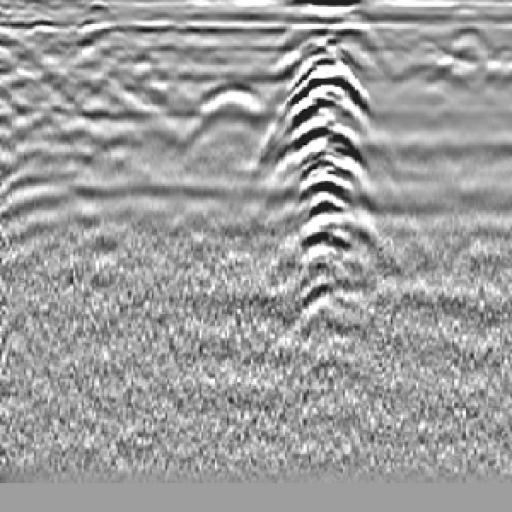metalic: (280, 25, 381, 316)
nonmetalic: (182, 68, 283, 162)
